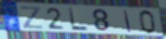0: (138, 10, 157, 35)
2: (45, 7, 66, 30)
8: (92, 8, 111, 32)
I: (123, 9, 133, 33)
L: (67, 7, 89, 32)
Z: (20, 5, 44, 30)
